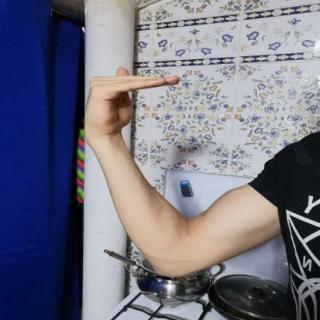KHAA: (71, 60, 188, 143)
